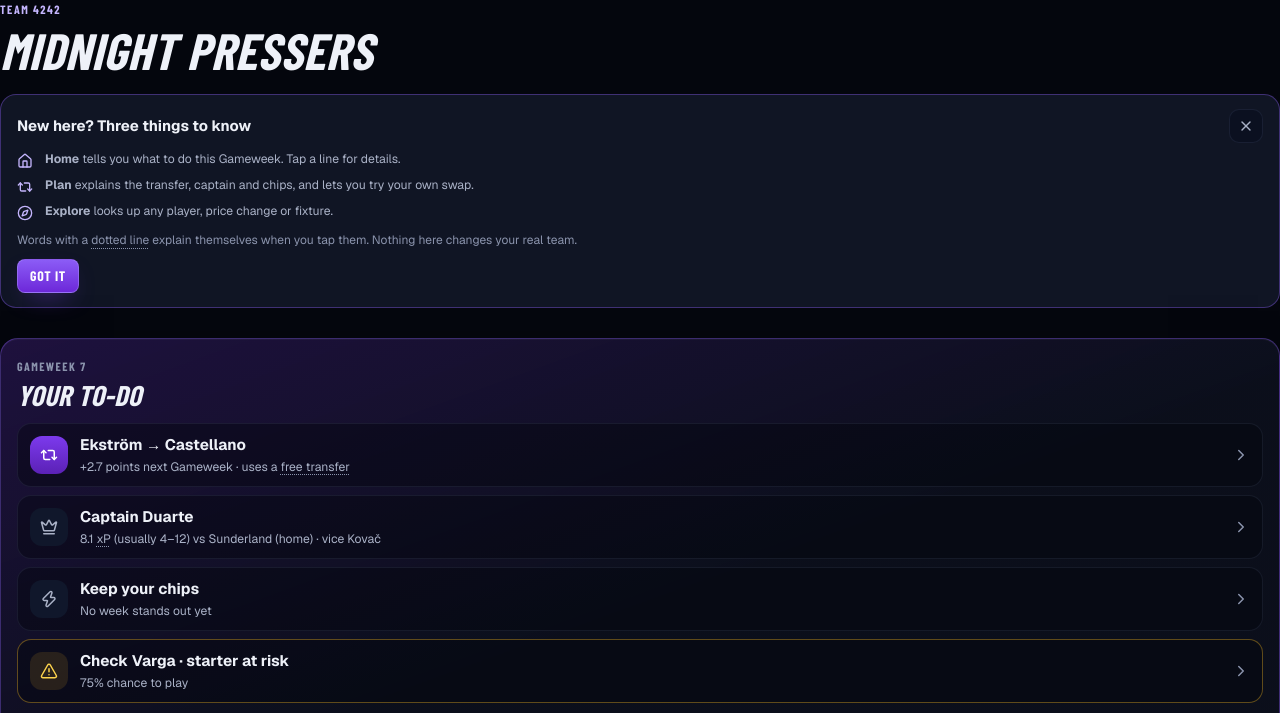
a dotted word explains itself
This screenshot has width=1280, height=713.
Click the button with aria-label "What is xP (expected points)?".
click(104, 539)  # box [96,530,111,548]
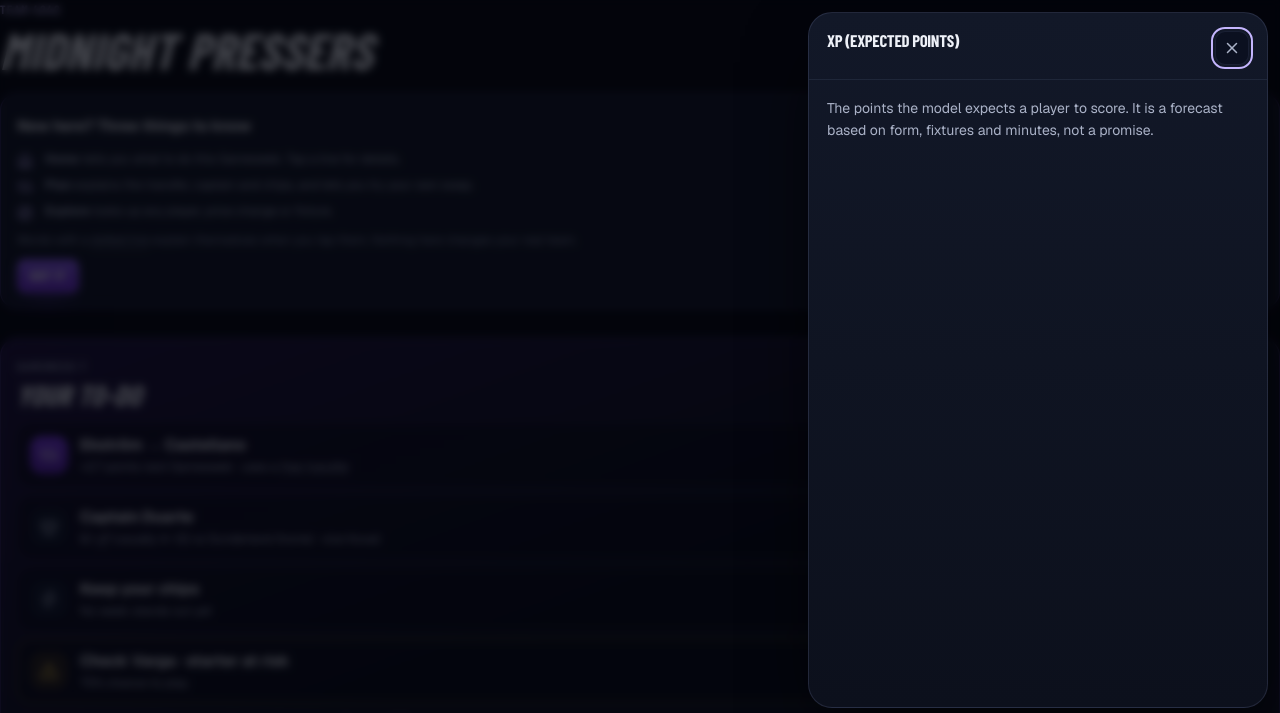
Expected: the dialog "xP (expected points)" shows "forecast", [827,99,1223,139]
